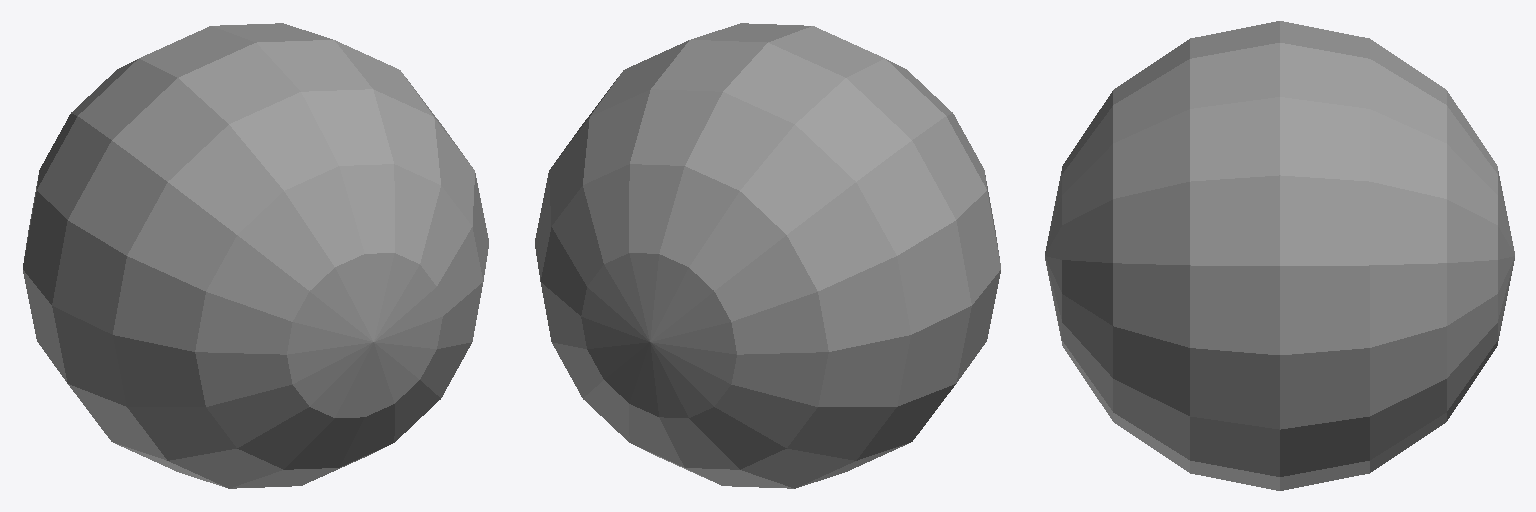
The model's file is HabilidadPirata.obj.
The picture shows the model from 3 angles: view 1: azimuth 30°, elevation 25°; view 2: azimuth 150°, elevation 25°; view 3: azimuth 270°, elevation 25°; orthographic projection.
Parts seen in each view (by area): view 1: Sphere.001; view 2: Sphere.001; view 3: Sphere.001.
Boxes of the visible parts, x1=… form: Sphere.001: x1=23, y1=23, x2=488, y2=488; Sphere.001: x1=535, y1=23, x2=1000, y2=488; Sphere.001: x1=1045, y1=21, x2=1514, y2=490.
Size of the model in its own units: 2 by 2 by 2.